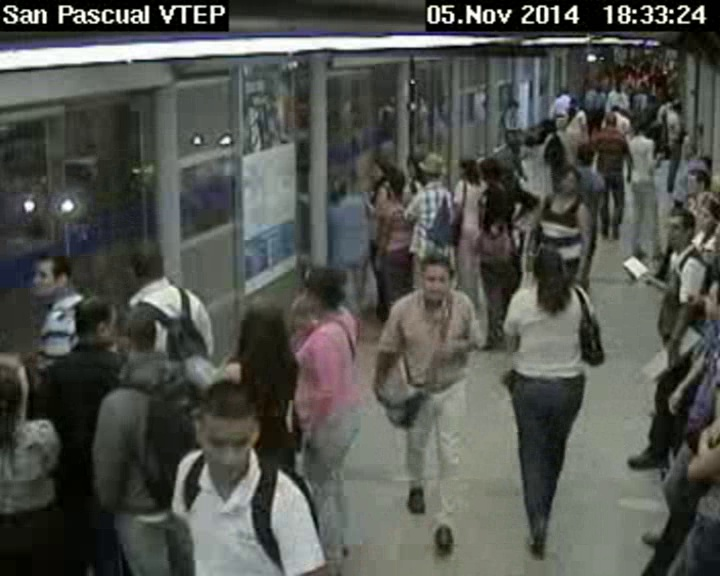person: (192, 379, 267, 475), (232, 294, 296, 373), (287, 248, 353, 317), (1, 352, 50, 419), (524, 242, 571, 307), (67, 297, 121, 348), (118, 240, 176, 286), (25, 249, 73, 301), (115, 305, 158, 363), (415, 253, 456, 313), (662, 205, 703, 249), (416, 148, 448, 183), (699, 270, 720, 321), (699, 194, 720, 243), (482, 152, 509, 183), (369, 151, 393, 185), (554, 165, 582, 193), (329, 175, 356, 204), (457, 155, 479, 186), (689, 168, 707, 195), (605, 109, 621, 133), (544, 117, 562, 137), (638, 117, 650, 136), (510, 97, 522, 110), (570, 99, 582, 112), (672, 99, 681, 110)
